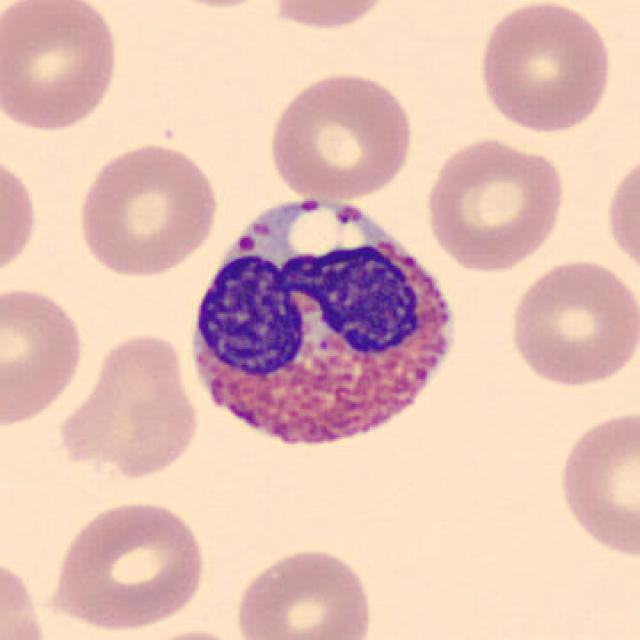Eosinophil: (180, 178, 471, 473)
RBC: (53, 328, 203, 481), (44, 495, 210, 633), (73, 137, 222, 280), (265, 67, 418, 203), (421, 134, 569, 273), (473, 0, 615, 136), (503, 256, 638, 390), (0, 0, 124, 134), (231, 543, 377, 640), (553, 404, 638, 562), (0, 282, 89, 430), (0, 146, 41, 288), (602, 146, 640, 283), (0, 552, 52, 640), (264, 0, 398, 33), (126, 626, 256, 640), (143, 0, 284, 12)
